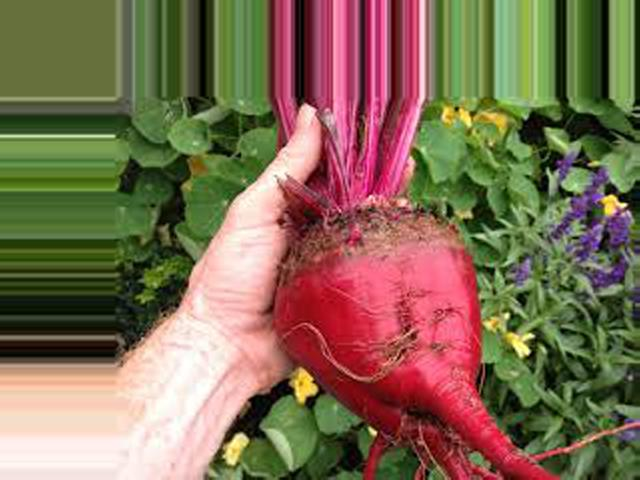beet: (273, 97, 553, 479)
